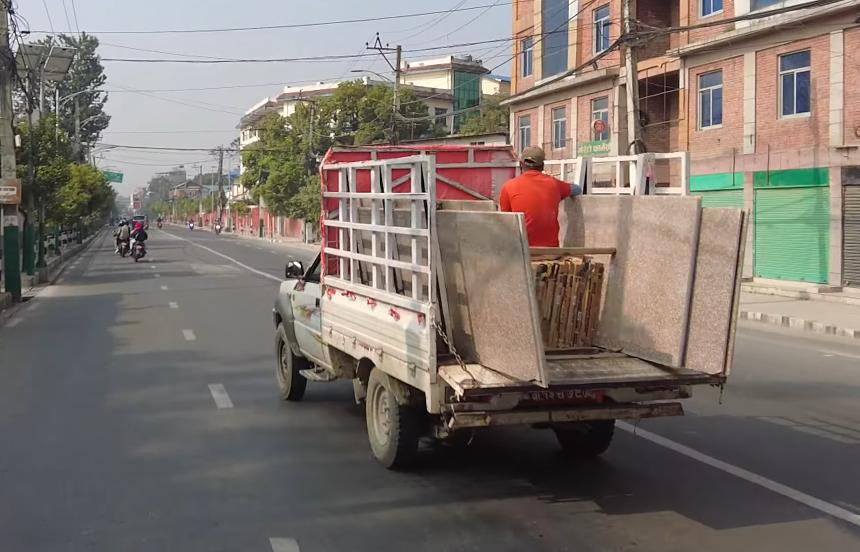bike: (110, 209, 151, 266)
transport_vehicle: (269, 139, 744, 471)
